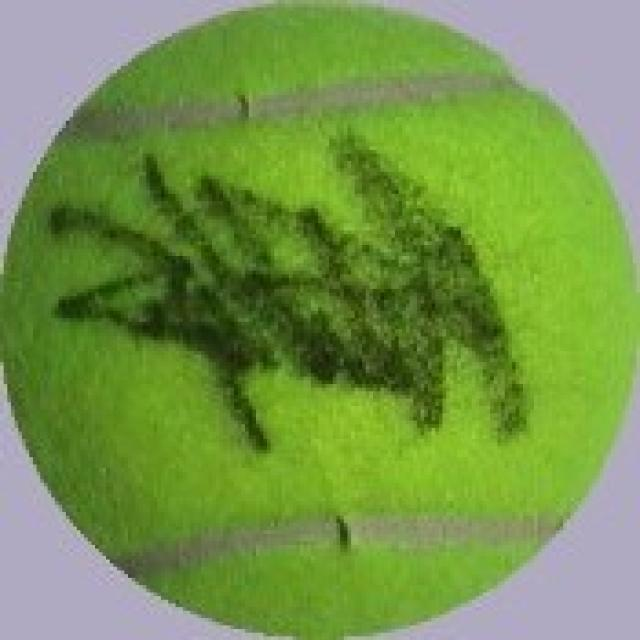Tennis Ball: (0, 4, 640, 640)
